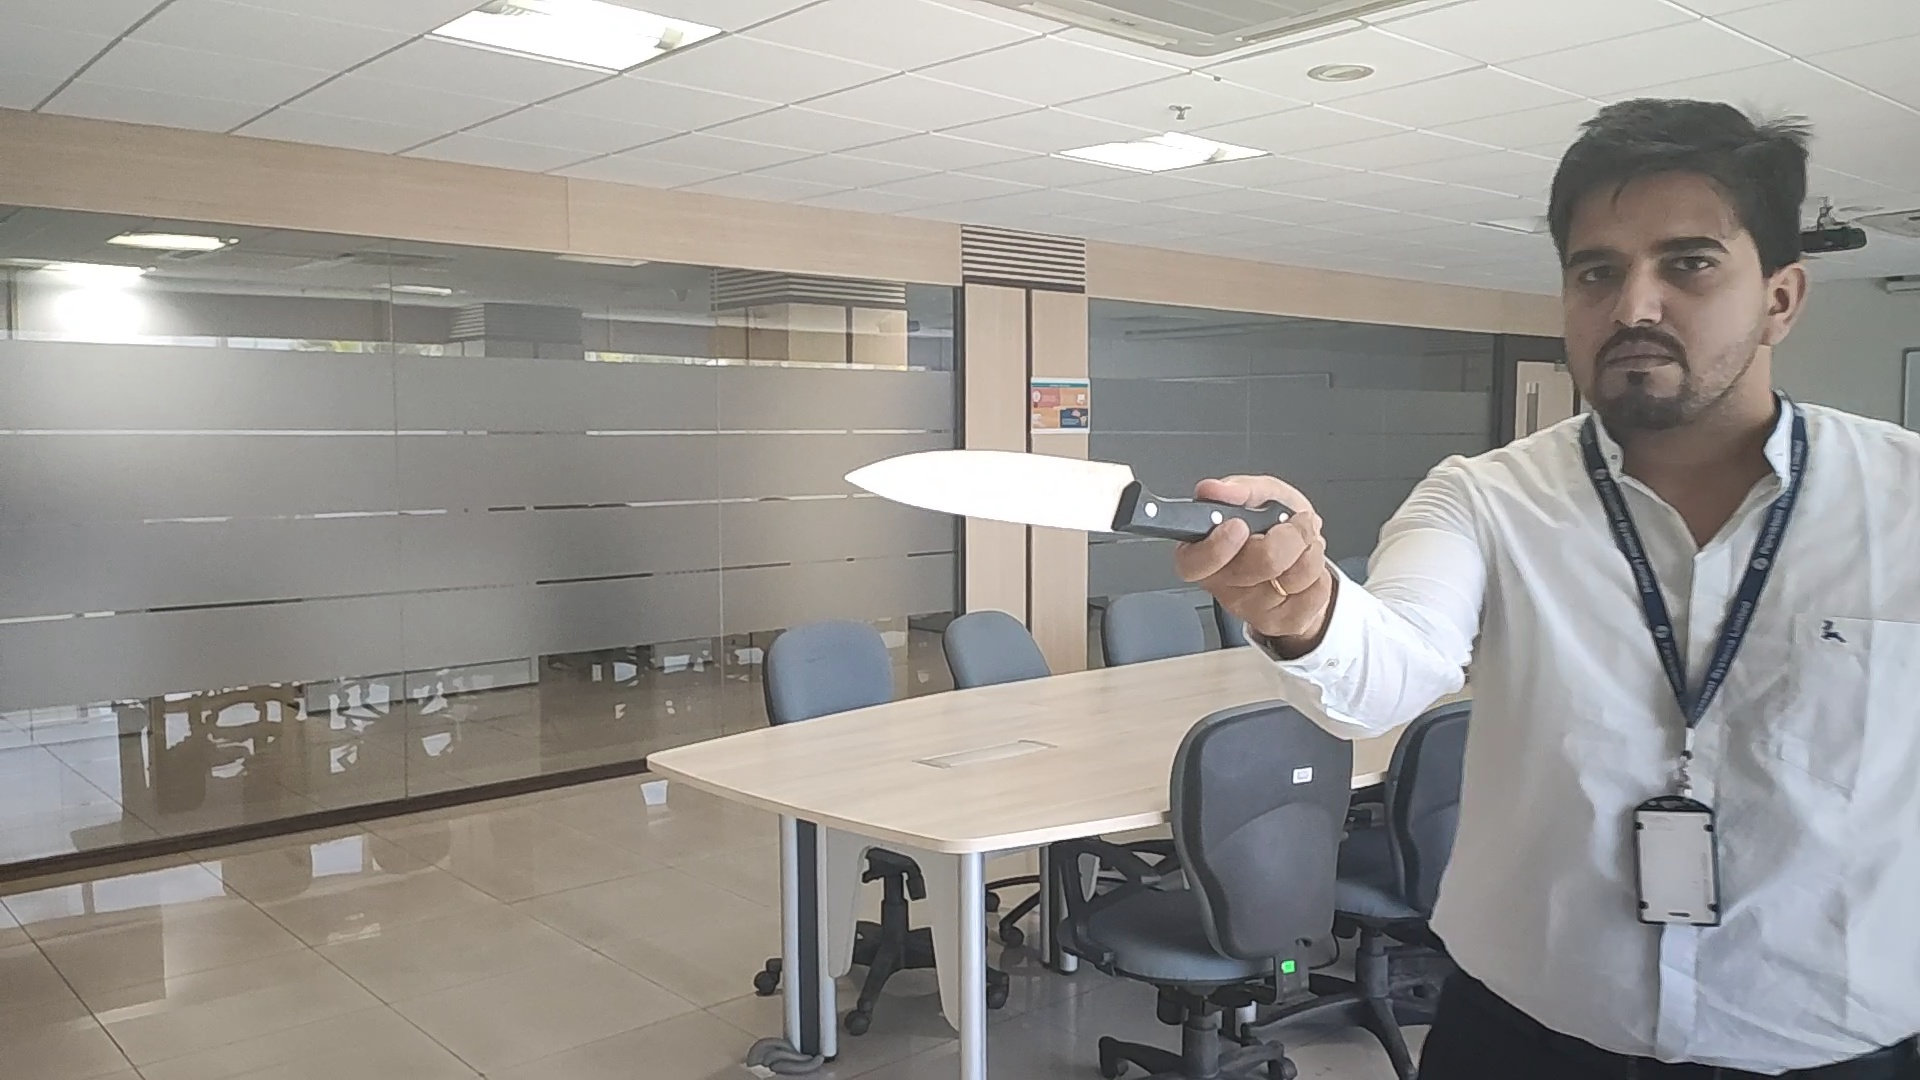knife: (845, 448, 1204, 545)
